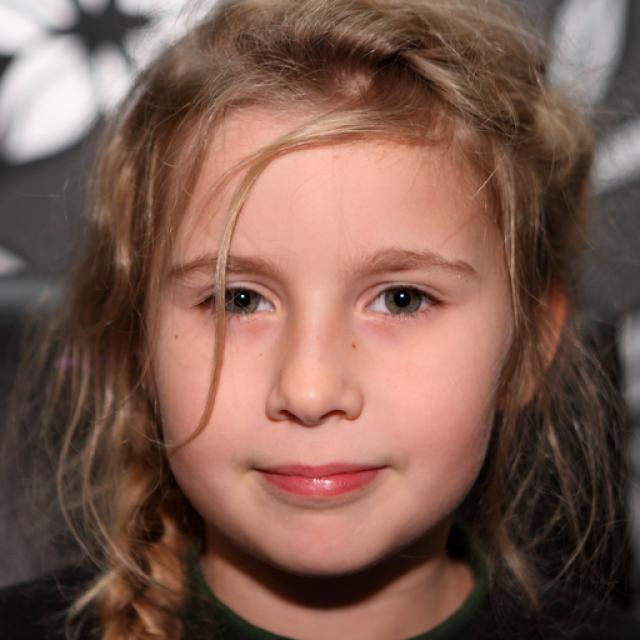content: (150, 119, 512, 576)
